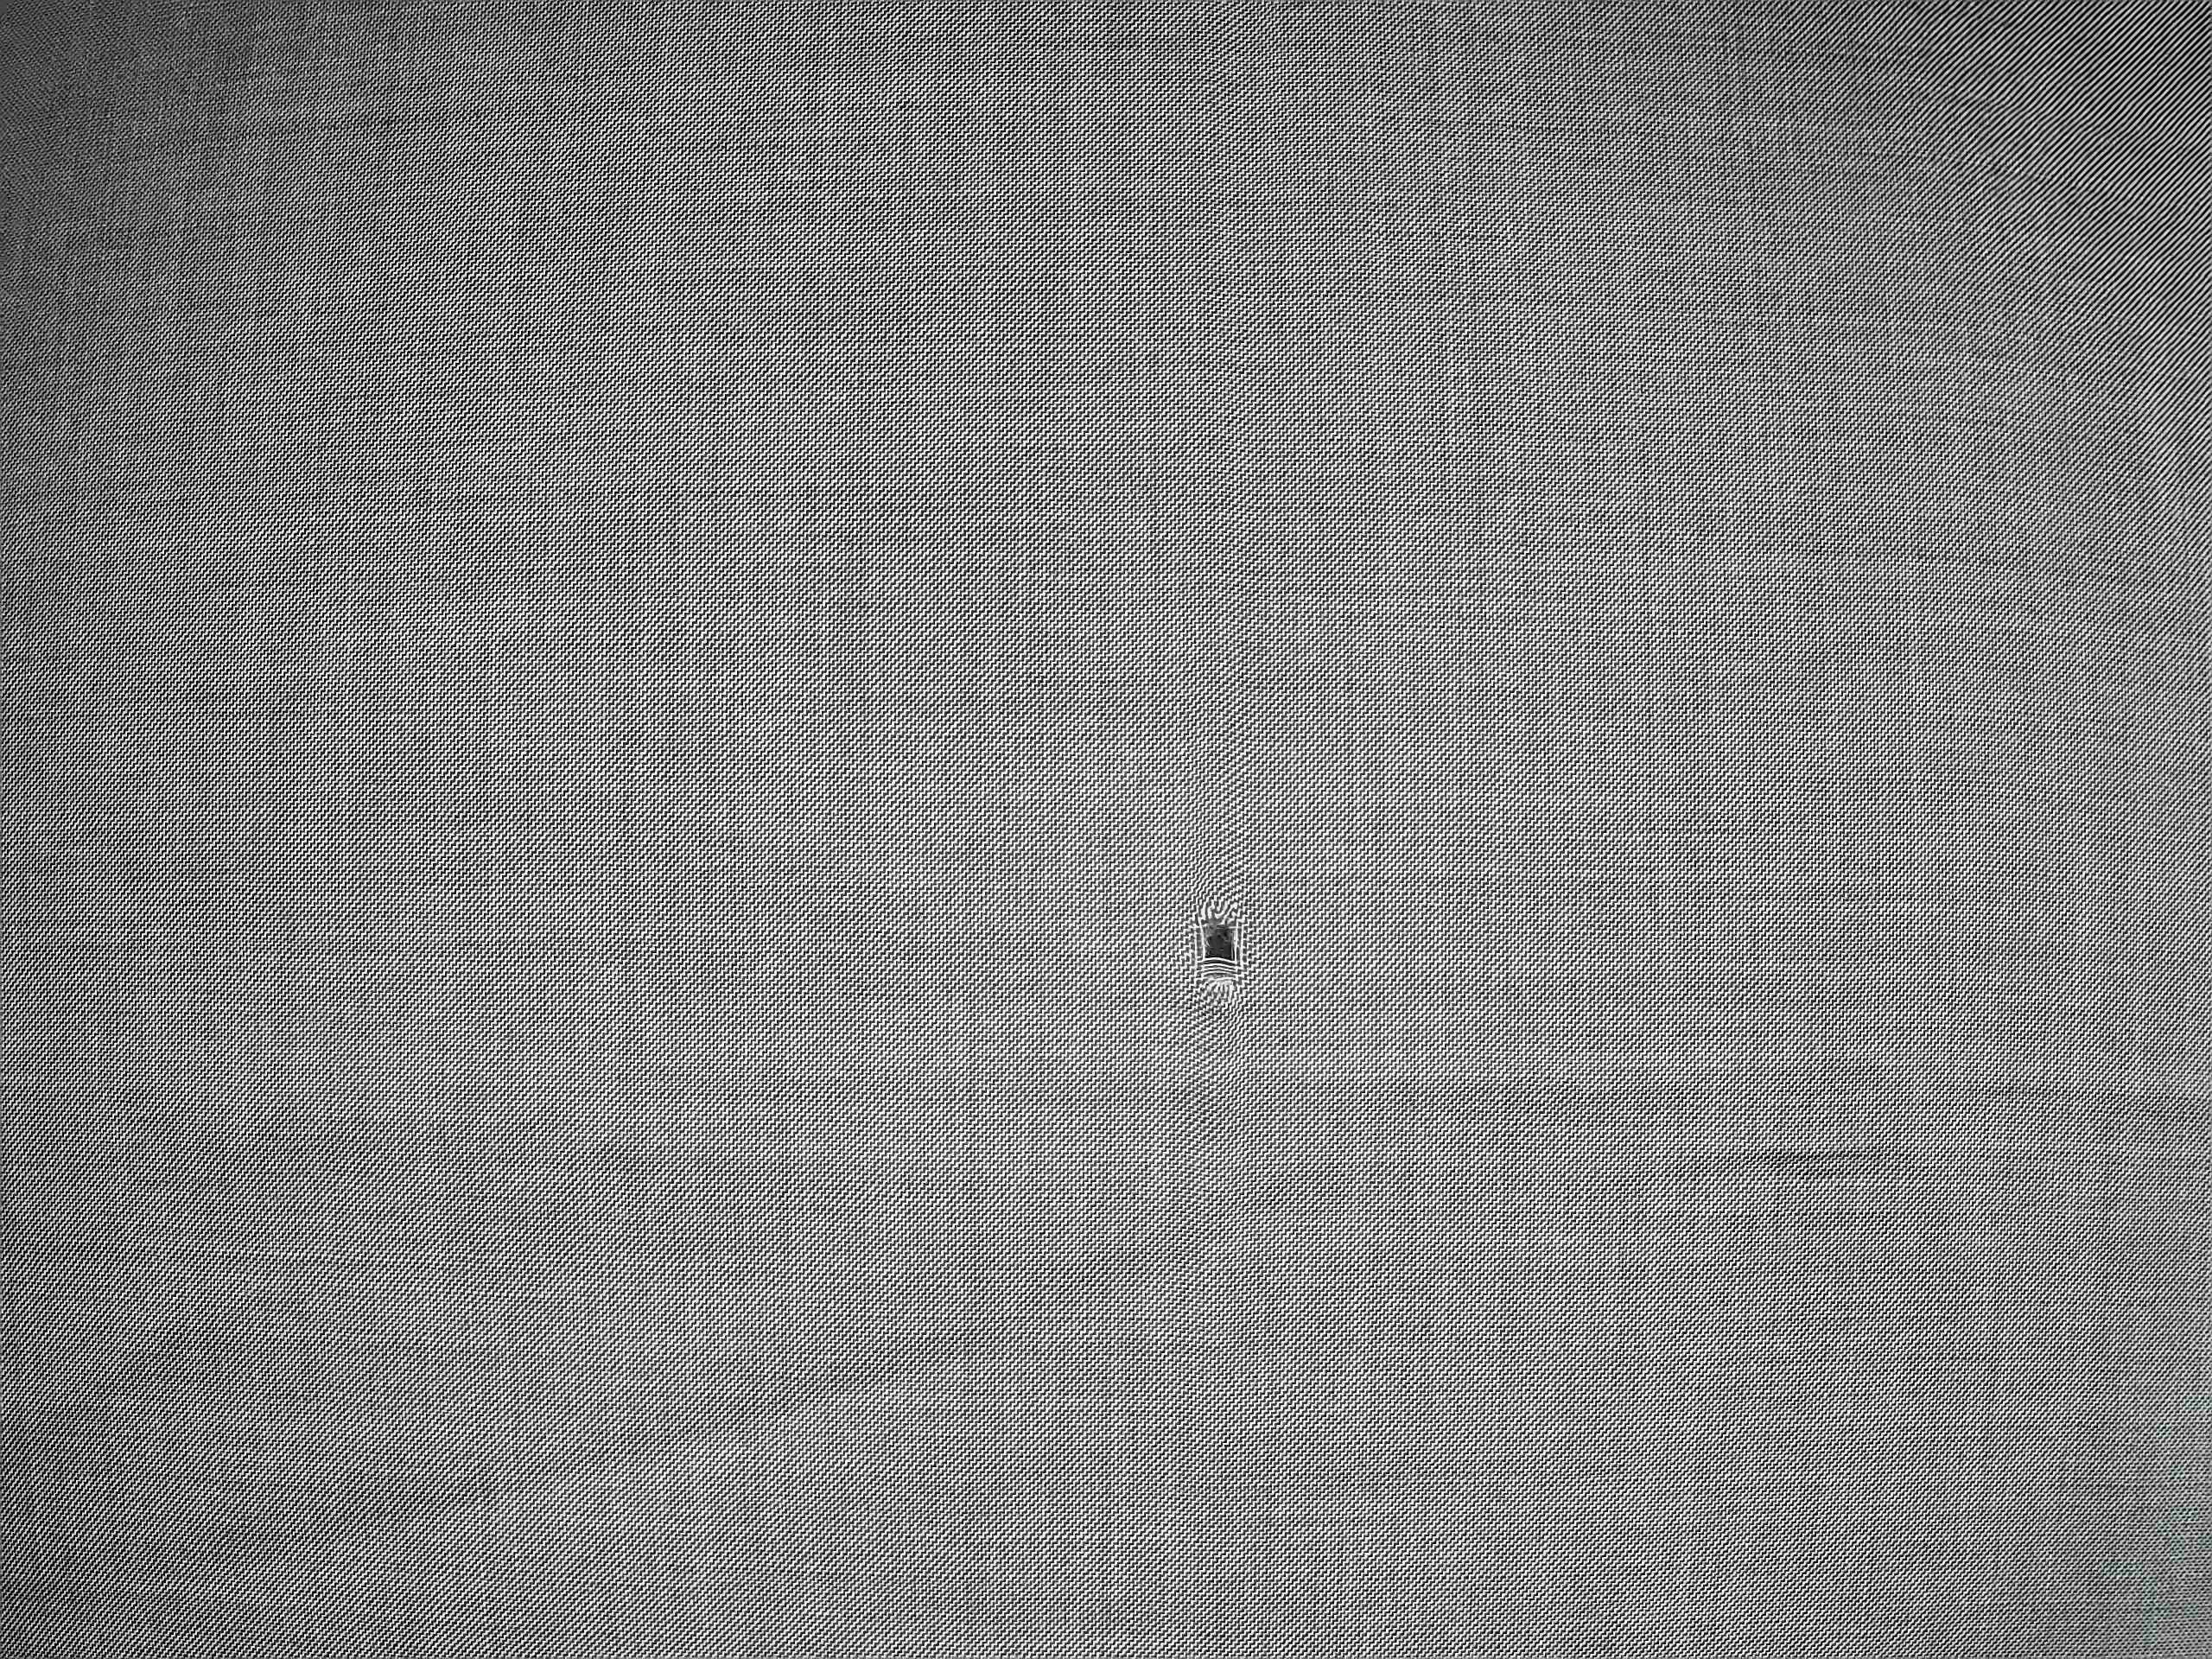brushed-hole: (1177, 894, 1263, 1014)
